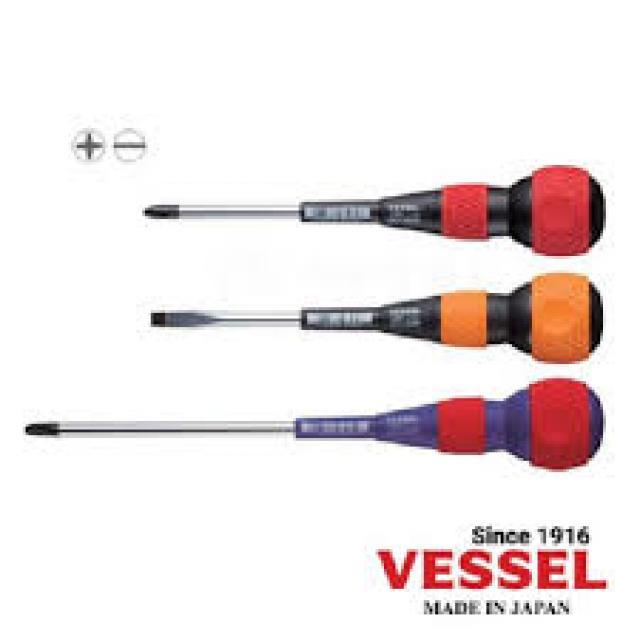screwdriver: (22, 375, 608, 478), (135, 160, 622, 258), (142, 268, 614, 366)
